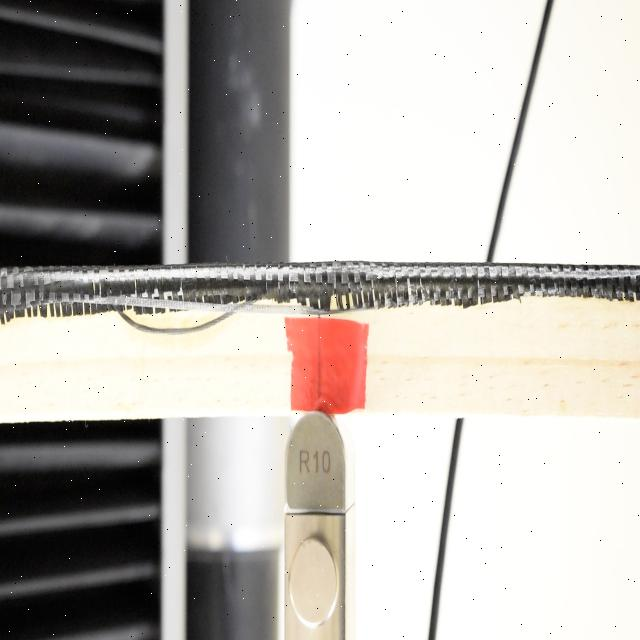wood: (1, 263, 640, 424)
